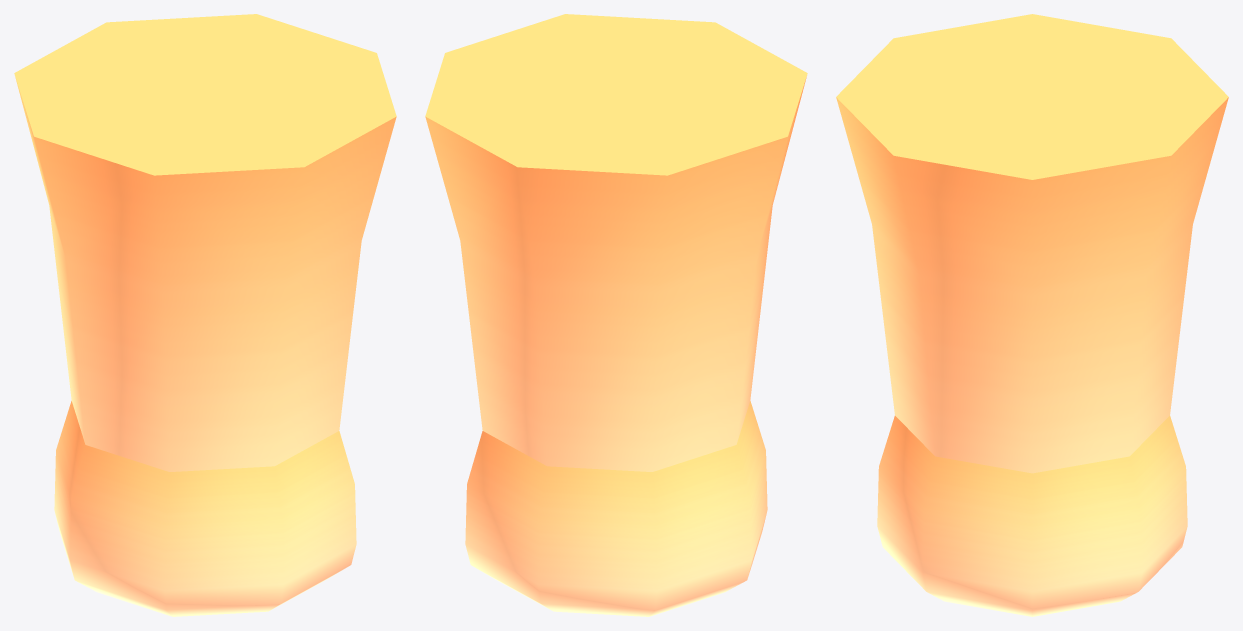
Rendered from wood_grip_114_004.glb.
3 renders of one model, left to right at view 1: azimuth 30°, elevation 25°; view 2: azimuth 150°, elevation 25°; view 3: azimuth 270°, elevation 25°, orthographic.
Visible parts, largest first — view 1: wood_grip_114.004; view 2: wood_grip_114.004; view 3: wood_grip_114.004.
Part boxes in pixels (x1,y1,x2,y2): wood_grip_114.004: (14,14,396,616); wood_grip_114.004: (425,14,807,616); wood_grip_114.004: (836,14,1228,616).
Size of the model in its own units: 2.65 by 3.48 by 2.65.
Materials: 1 (1 with a texture image).
